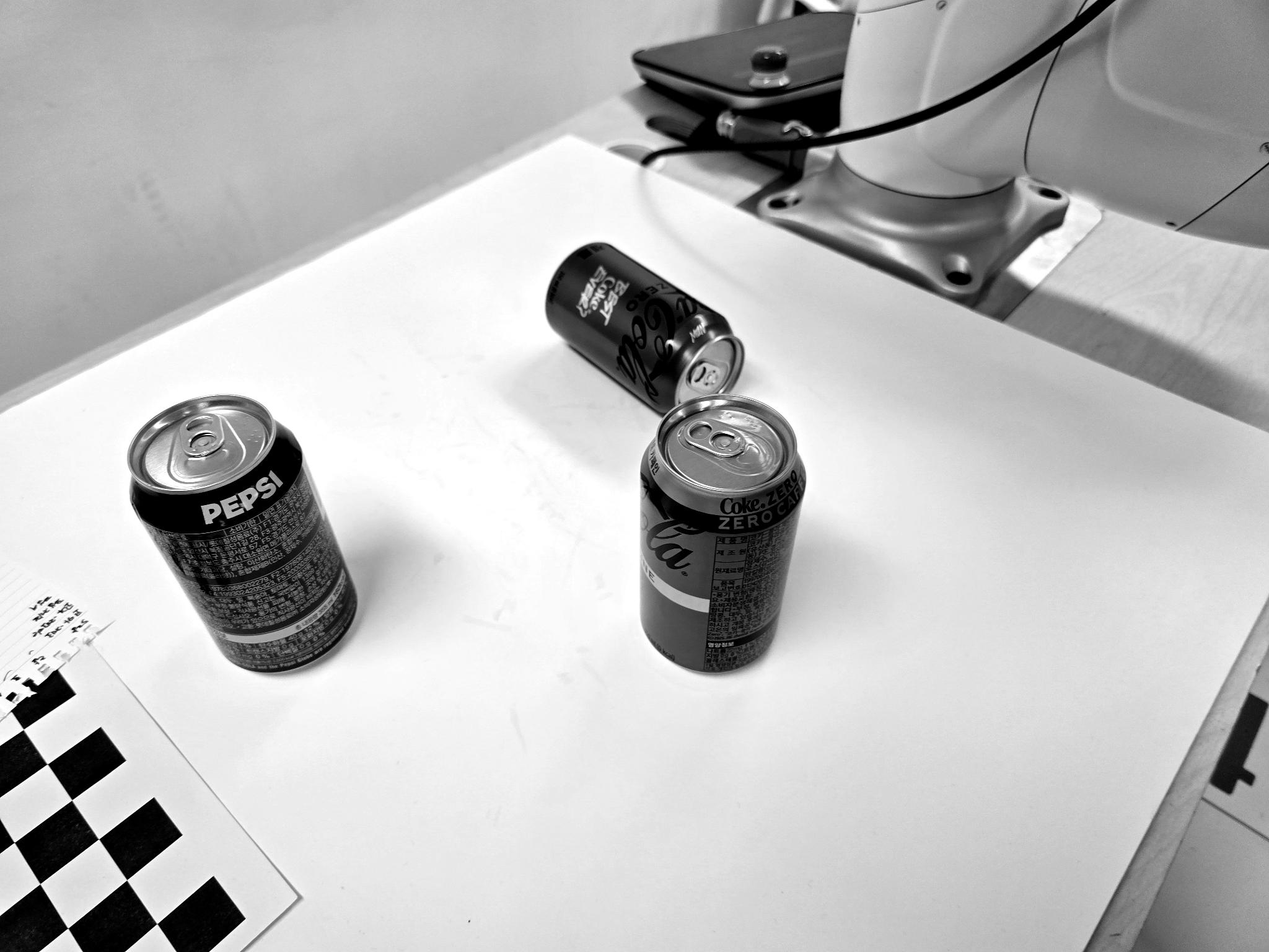can_coke_decaf: (631, 396, 808, 671)
can_coke_zero: (546, 242, 744, 418)
can_pepsi: (127, 399, 358, 673)
